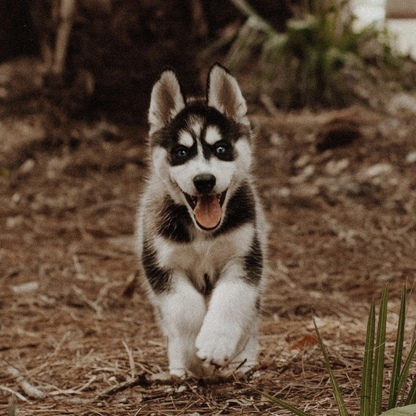husky: (128, 57, 279, 387)
